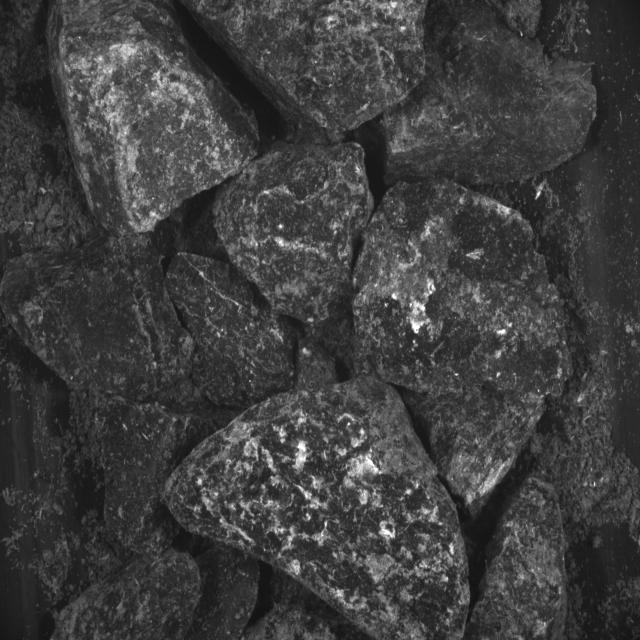Stones: (165, 378, 471, 640), (49, 1, 260, 235), (355, 181, 571, 398), (382, 3, 597, 186), (1, 235, 195, 403), (186, 1, 427, 132), (215, 143, 375, 324), (166, 254, 296, 408), (404, 385, 545, 518), (102, 398, 215, 555), (467, 479, 567, 640), (54, 550, 202, 640), (244, 578, 367, 640), (187, 547, 261, 640)
